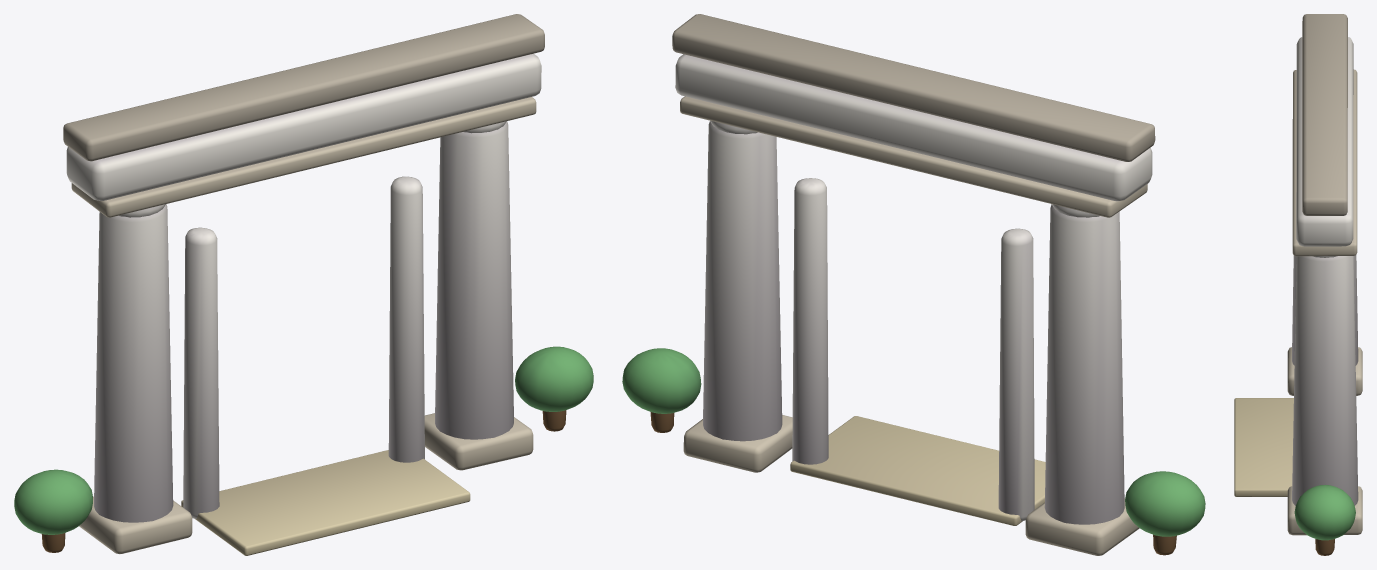
3 renders of one model, left to right at view 1: azimuth 30°, elevation 25°; view 2: azimuth 150°, elevation 25°; view 3: azimuth 270°, elevation 25°, orthographic. The views are drawn at different scales.
Visible parts, largest first — view 1: gate_f8372a58; view 2: gate_f8372a58; view 3: gate_f8372a58.
Part boxes in pixels (x1,y1,x2,y2): gate_f8372a58: (14, 14, 593, 555); gate_f8372a58: (622, 14, 1205, 555); gate_f8372a58: (1234, 14, 1362, 555).
Size of the model in its own units: 6.08 by 4.21 by 1.41.
